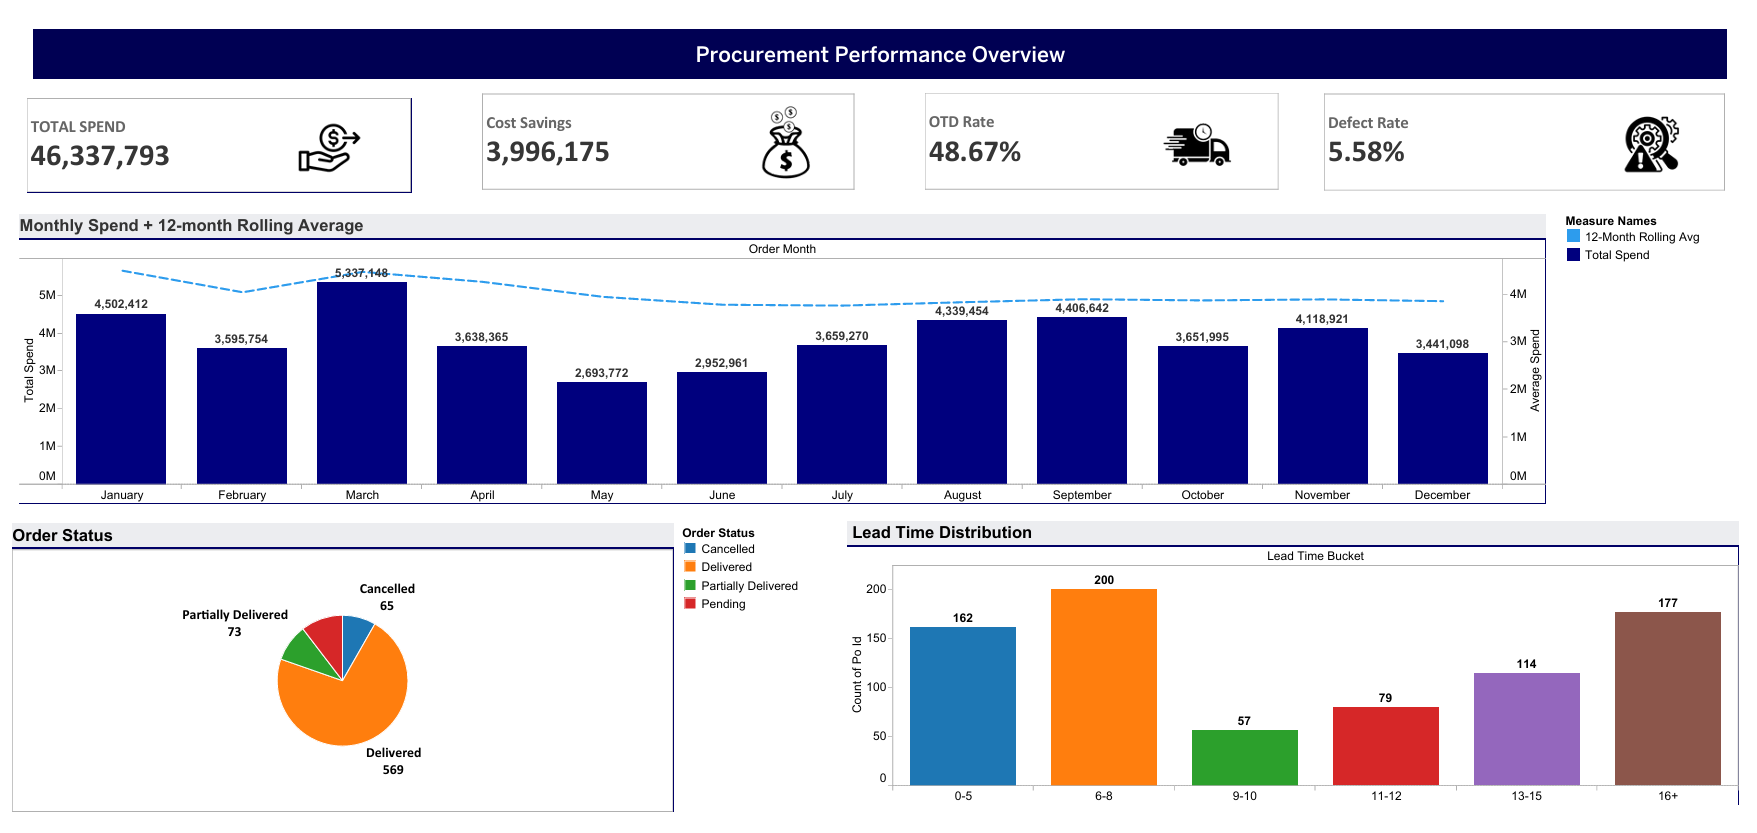

The page's visual inventory and layout, read from the dashboard file:
{"tool":"tableau","page":{"name":"Dashboard 1 ","canvas":[1000,1000],"units":"permille","ordinal":0},"visuals":[{"type":"text","box":[12.1,1.2,971,63.5]},{"type":"worksheet","title":"Sheet 3","mark":"Automatic","box":[523.2,82.3,202.8,123.4]},{"type":"worksheet","title":"Sheet 2","mark":"Automatic","box":[269.8,83.4,213.6,122.2]},{"type":"worksheet","title":"Sheet 4","mark":"Automatic","box":[752,83.4,229.9,123.4]},{"type":"worksheet","title":"Sheet 1","mark":"Automatic","box":[8.4,89.3,220.3,119.9]},{"type":"legend","title":"Sheet 5","param":"[federated.1jhp7oa0ofrbhz1gift5g0305rtj].[:Measure Names]","box":[890,233.8,97.5,65.8]},{"type":"worksheet","title":"Sheet 5","mark":"Automatic","rows":["Total_Spend"],"cols":["Order_Month"],"box":[4.2,236.2,875.1,367.8]},{"type":"worksheet","title":"Sheet 8","mark":"Bar","rows":["PO_ID"],"cols":["Calculation_1290280962097155"],"box":[479,626.2,511,361.2]},{"type":"worksheet","title":"Sheet 6","mark":"Pie","box":[0,629.9,379,366.6]},{"type":"legend","title":"Sheet 6","param":"[federated.1jhp7oa0ofrbhz1gift5g0305rtj].[none:Order_Status:nk]","box":[383.2,629.9,84.5,112.8]}]}

Visuals, with their boxes on the dashboard's canvas, which has no fixed pixel size, in thousandths of its width and height (x1, y1, x2, y2). These are canvas units, not pixel positions in the 1757x833 screenshot, which may show the page scaled, cropped or inside an application window:
text: Rect(12, 1, 983, 65)
"Sheet 3" worksheet: Rect(523, 82, 726, 206)
"Sheet 2" worksheet: Rect(270, 83, 483, 206)
"Sheet 4" worksheet: Rect(752, 83, 982, 207)
"Sheet 1" worksheet: Rect(8, 89, 229, 209)
"Sheet 5" legend: Rect(890, 234, 988, 300)
"Sheet 5" worksheet: Rect(4, 236, 879, 604)
"Sheet 8" worksheet (Bar marks): Rect(479, 626, 990, 987)
"Sheet 6" worksheet (Pie marks): Rect(0, 630, 379, 996)
"Sheet 6" legend: Rect(383, 630, 468, 743)
